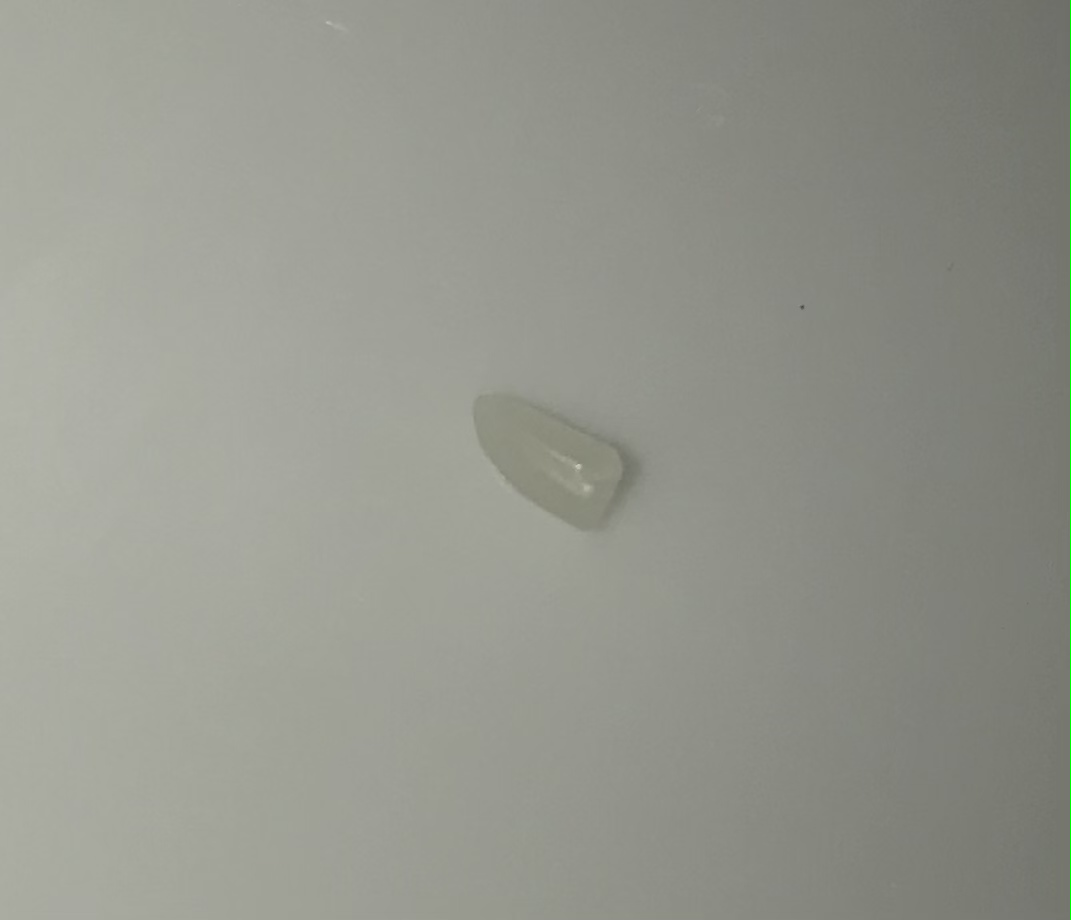Gao Tam: (450, 381, 642, 553)
